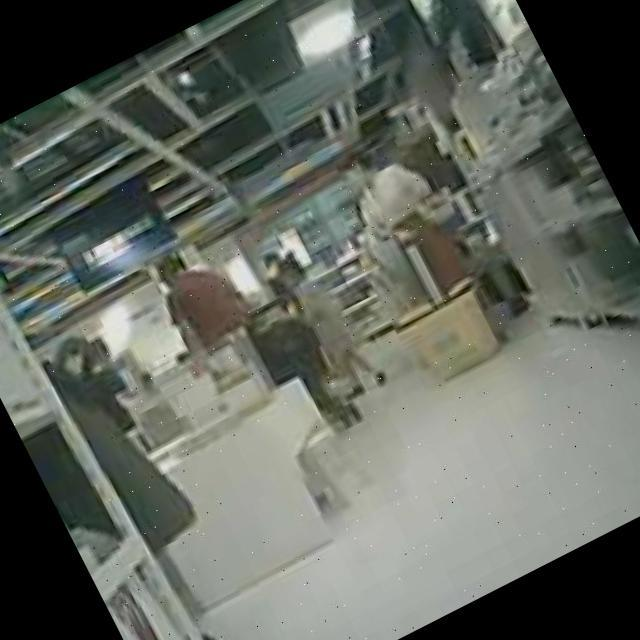person: (339, 134, 476, 308), (266, 241, 392, 410), (143, 238, 262, 378)
